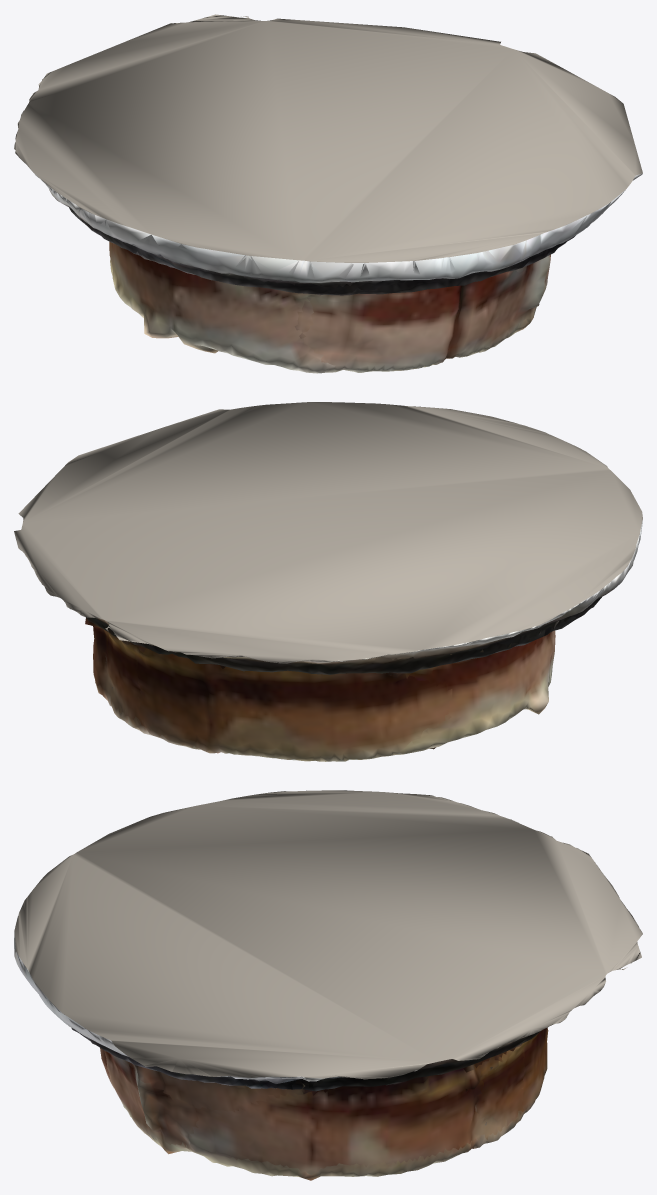
Rendered from cake_13890.obj.
3 views of the same model, one above another, from view 1: azimuth 30°, elevation 25°; view 2: azimuth 150°, elevation 25°; view 3: azimuth 270°, elevation 25° (orthographic). The views are drawn at different scales.
Bounding box in the file's own units: 0.1761 × 0.0565 × 0.1767.
Materials: 1 (1 with a texture image).
